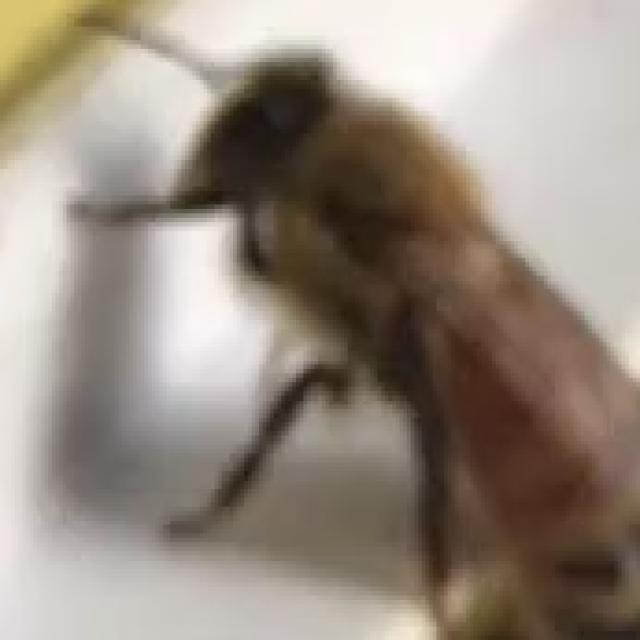honeybee: (103, 31, 640, 640)
